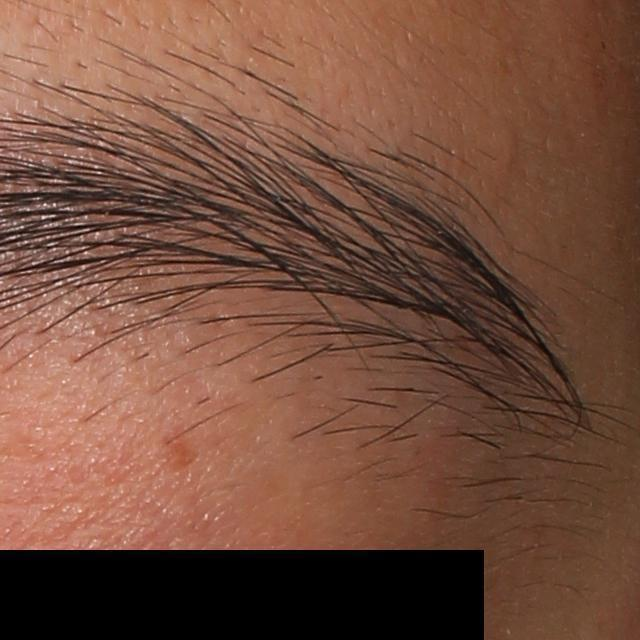melasma: (160, 423, 208, 479)
